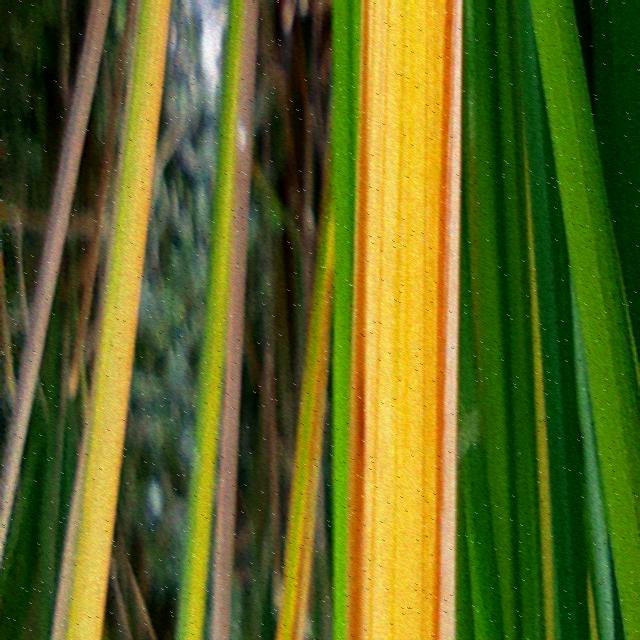BLB: (432, 0, 463, 640), (347, 0, 370, 640)
